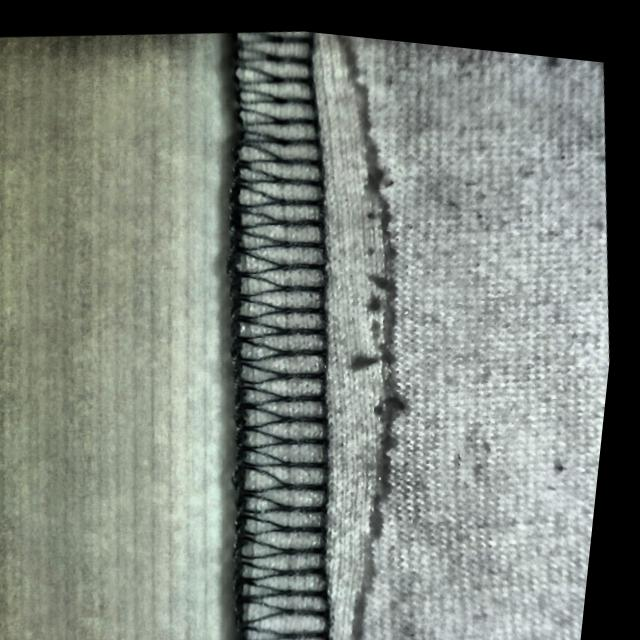seam: (170, 18, 493, 640)
